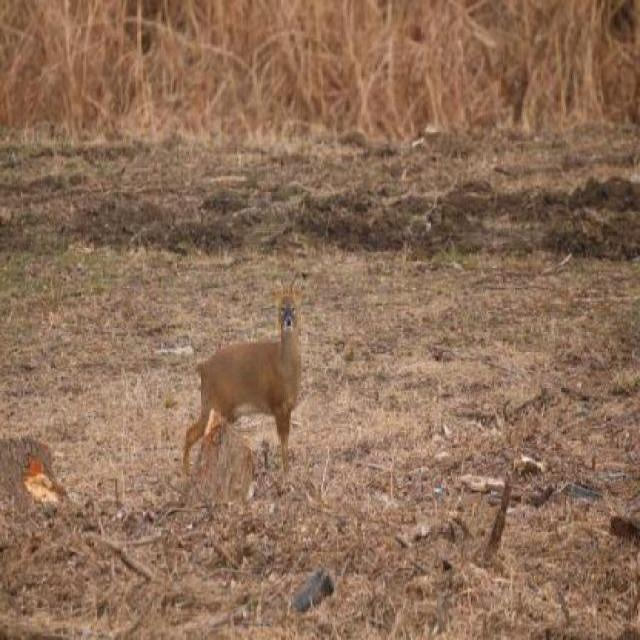deer: (184, 275, 308, 505)
